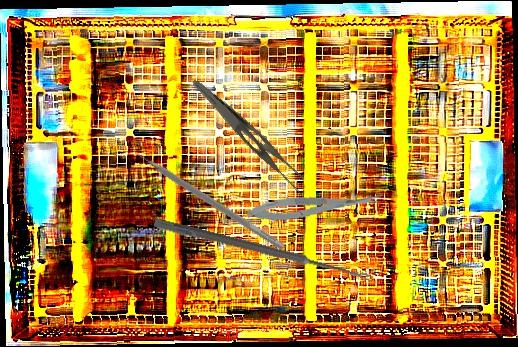Dressing Forceps: (179, 77, 317, 198)
Micro Scissor: (246, 189, 385, 224)
Spatula Surgical: (124, 139, 290, 251)
Surgical Spoon: (153, 217, 374, 284)
